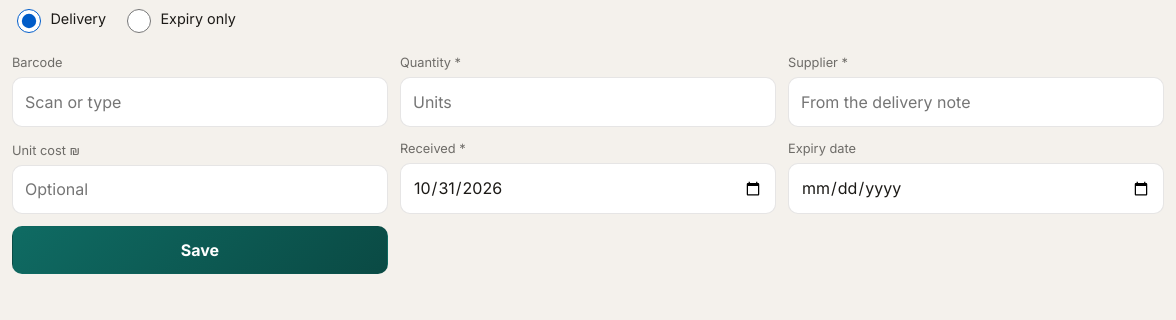
Test: ReceivingCaptureForm › shows the validation message and saves nothing when quantity is empty
In the field labelled "Barcode": {"x": 200, "y": 102} [12,77,388,127], type "7290000066318"
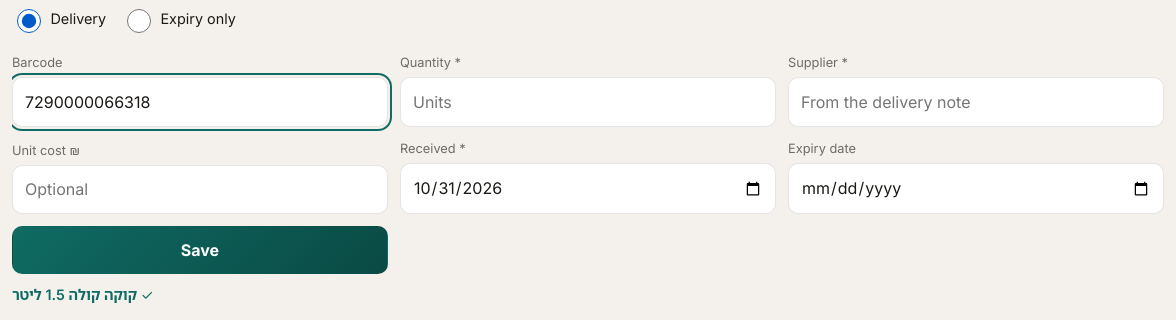
In the field labelled "Supplier *": {"x": 976, "y": 102} [788,77,1164,127], type "Tempo"
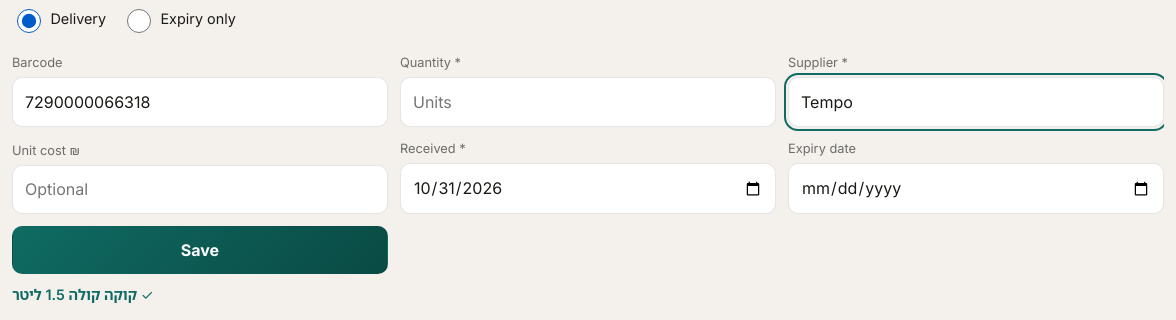
Click the button "Save": {"x": 200, "y": 250} [12,226,388,274]
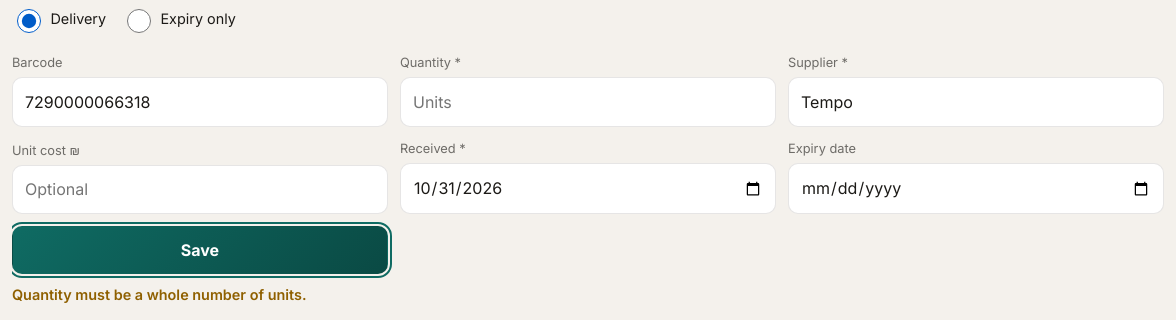
Check: the text "Quantity must be a whole number of units." is shown, box [12,286,306,303]
